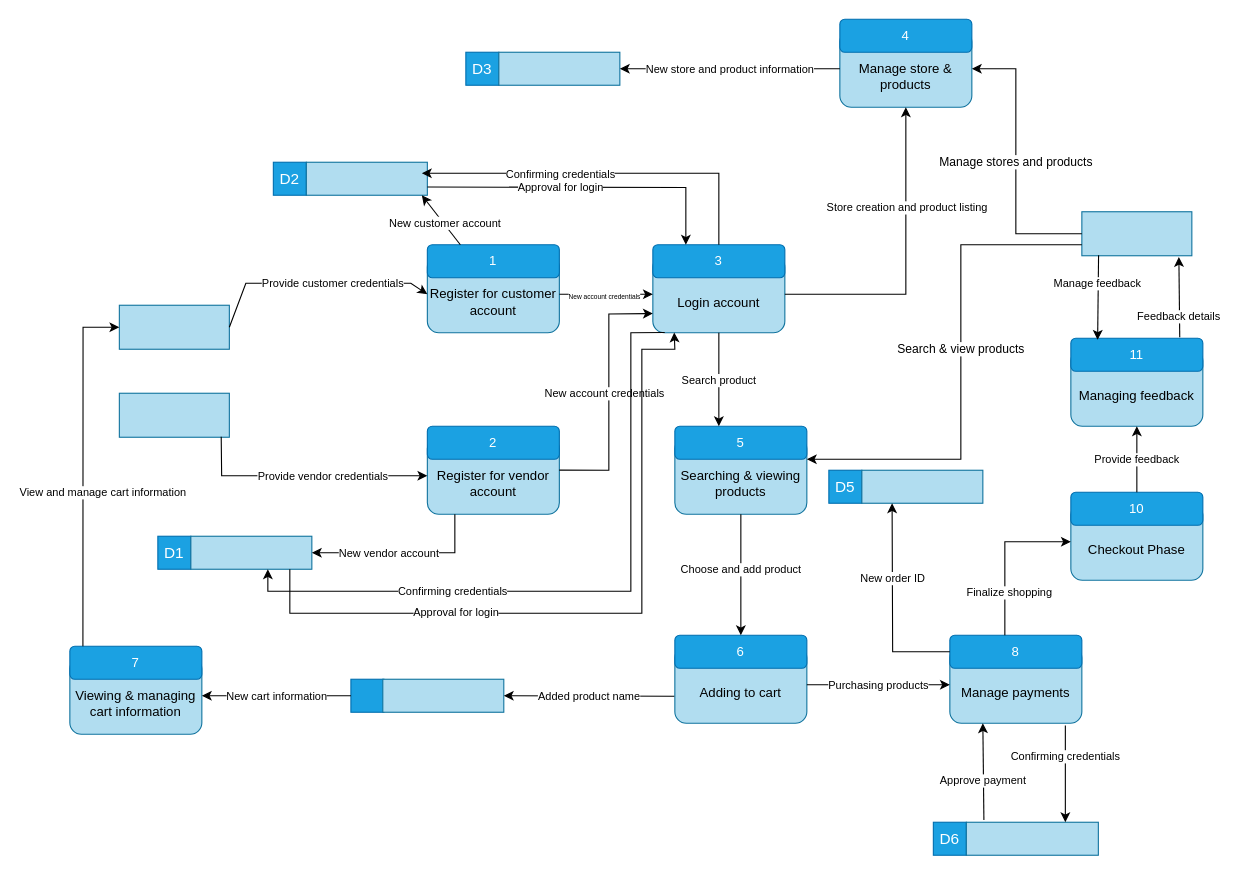
The diagram is 1239 pixels wide and 875 high, and some of its shapes have lost their labels. The centre of each missing label's shape, as x and y in pixels:
Administrator: point (1136, 233)
Cart information: point (443, 695)
Customer: point (173, 326)
Customer accounts: point (366, 178)
D4: point (367, 695)
Order information: point (922, 486)
Payment information: point (1031, 838)
Store and product information: point (559, 68)
Vendor: point (173, 414)
Vendor accounts: point (251, 552)
